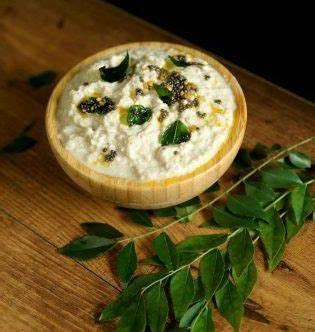CoconutChutney: (55, 48, 236, 182)
